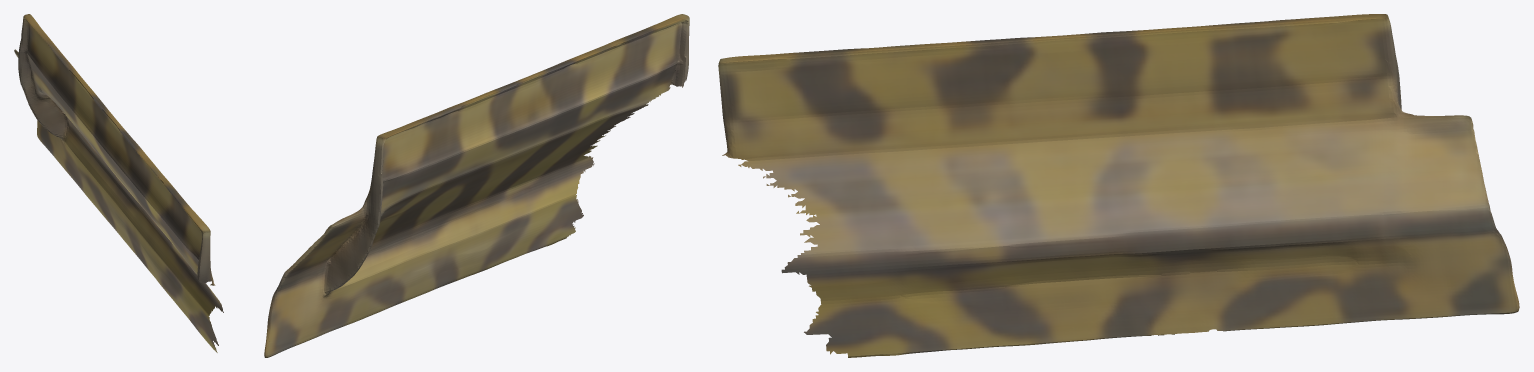
The model's file is guard-right-initializer.glb.
3 renders of one model, left to right at view 1: azimuth 30°, elevation 25°; view 2: azimuth 150°, elevation 25°; view 3: azimuth 270°, elevation 25°, orthographic. The views are drawn at different scales.
Parts seen in each view (by area): view 1: geometry_0; view 2: geometry_0; view 3: geometry_0.
Part boxes in pixels (left/top/right/bottom): geometry_0: left=14, top=14, right=223, bottom=352; geometry_0: left=264, top=14, right=689, bottom=357; geometry_0: left=718, top=14, right=1519, bottom=357.
Size of the model in its own units: 0.5933 by 1.25 by 2.75.
